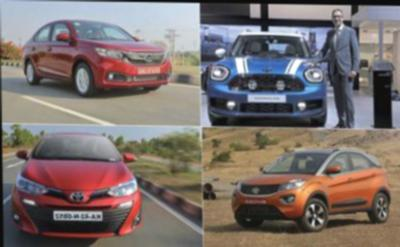License_Plate: (50, 208, 104, 226), (133, 61, 164, 80), (253, 94, 284, 102), (243, 198, 271, 206)
